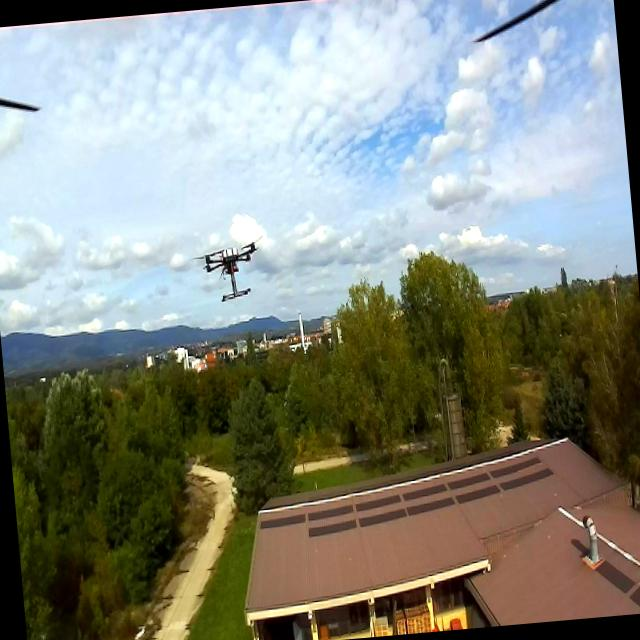drone: (198, 232, 260, 303)
